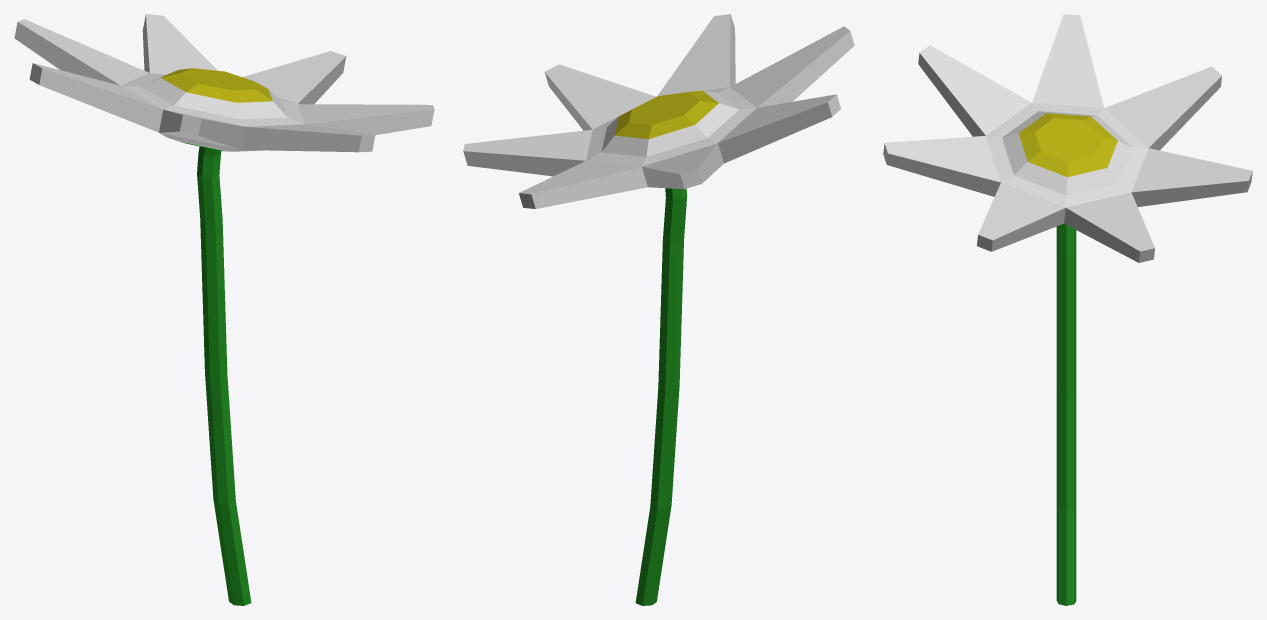
The model's file is FLOWER.fbx.
3 views of the same model, side by side, from view 1: azimuth 30°, elevation 25°; view 2: azimuth 150°, elevation 25°; view 3: azimuth 270°, elevation 25° (orthographic). The views are drawn at different scales.
Parts seen in each view (by area): view 1: Cylinder038; view 2: Cylinder038; view 3: Cylinder038.
Part boxes in pixels (bbox=[...]): Cylinder038: bbox=[14, 14, 434, 605]; Cylinder038: bbox=[463, 14, 854, 605]; Cylinder038: bbox=[883, 14, 1252, 605].
Size of the model in its own units: 0.0959 by 0.151 by 0.1005.
